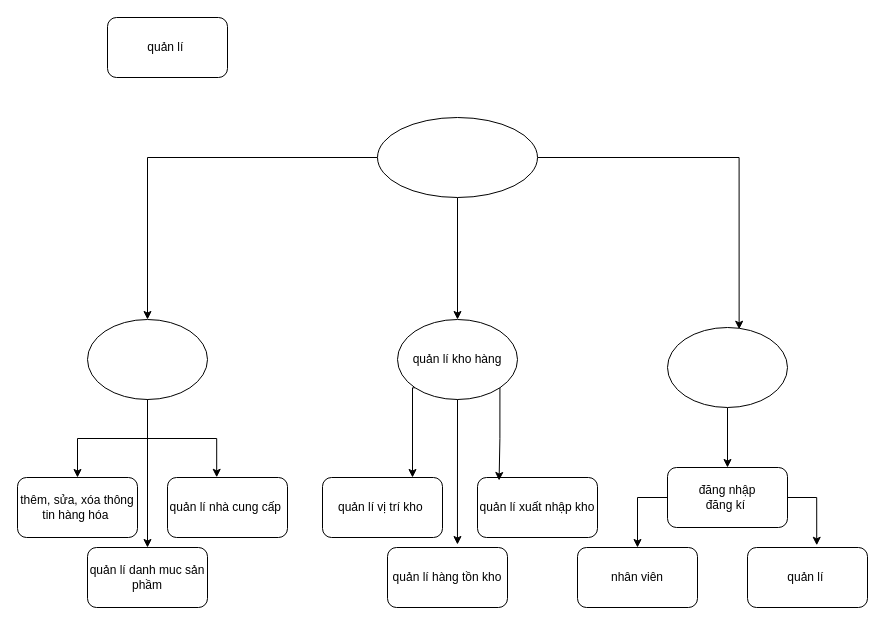
The diagram is 885 pixels wide and 625 high, and some of its shapes have lost their labels. Here are the shapes that lost their labels. From the top down, the centre of each, then its label:
At point (457, 157): "quản lí kho bãi".
At point (147, 359): "quản lí hàng hóa".
At point (727, 367): "quản lí tài khoản".
